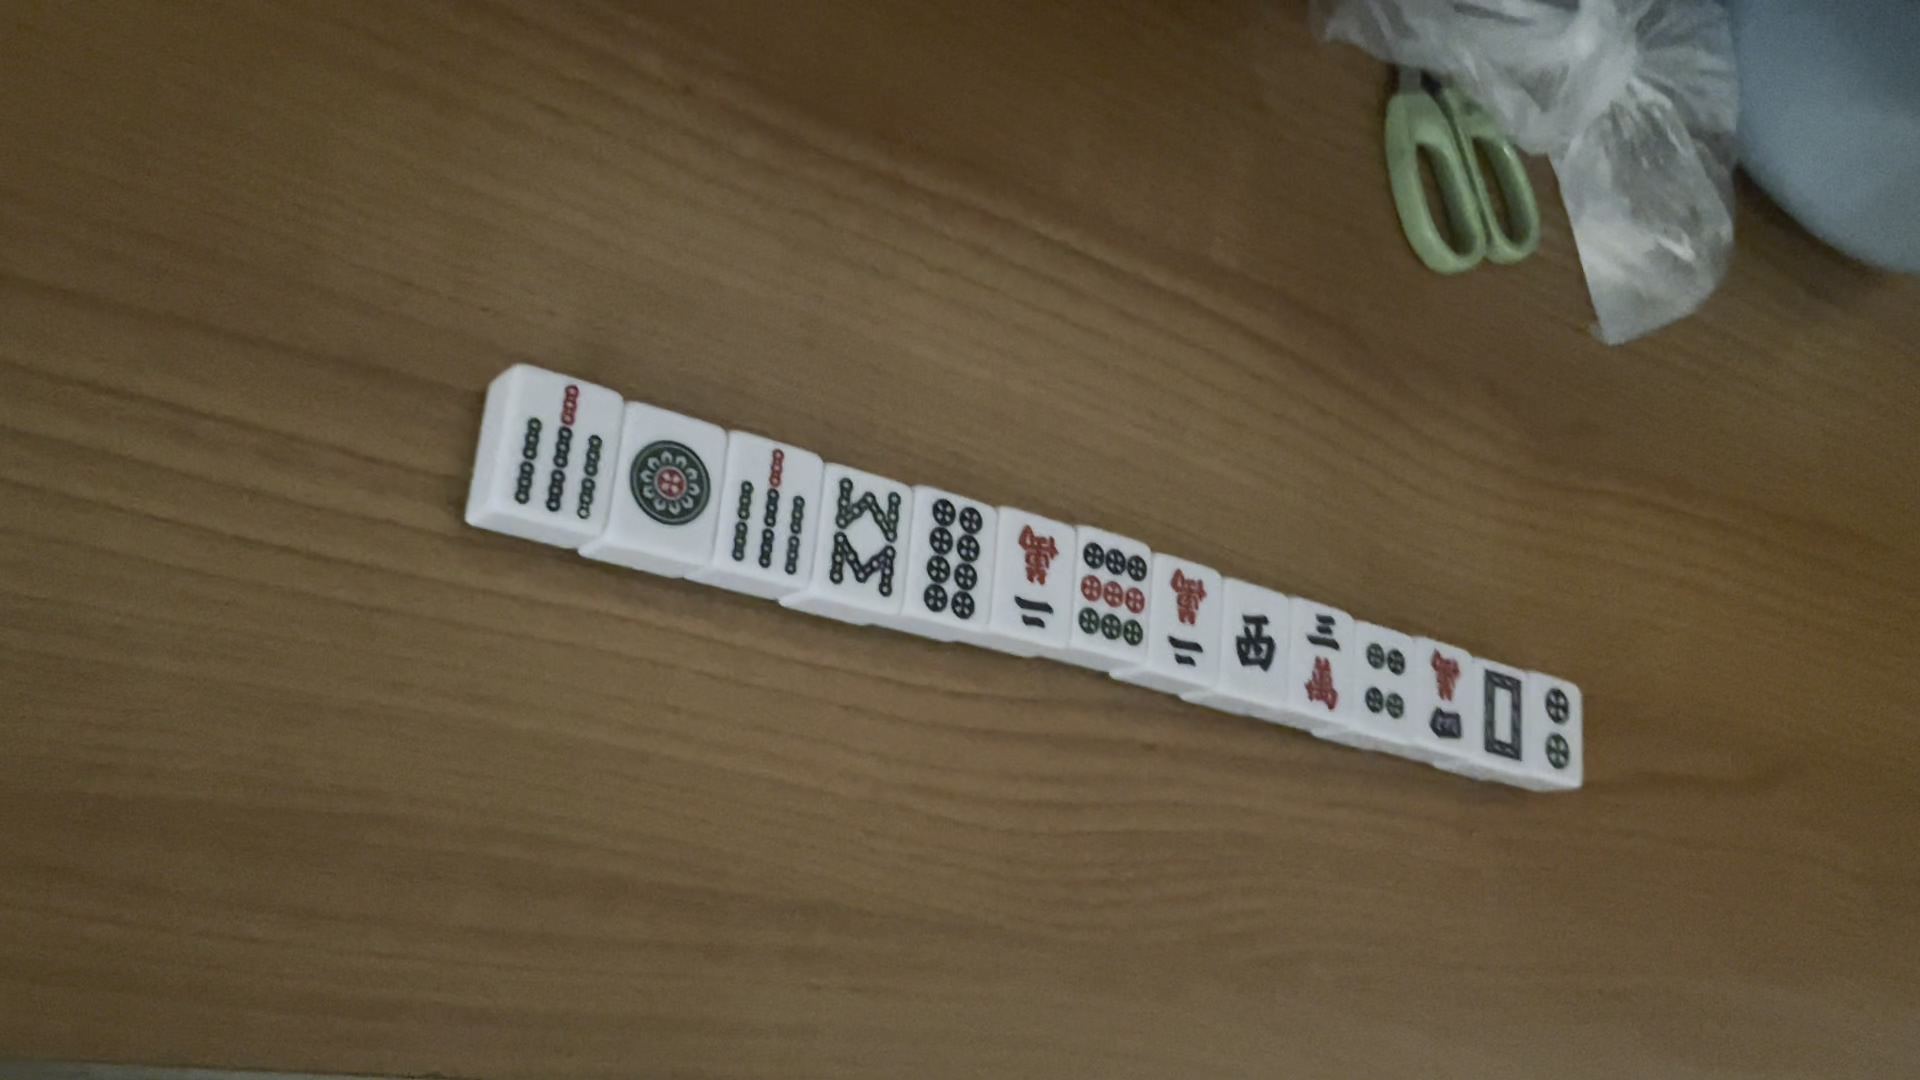b-7: (502, 376, 609, 522), (723, 444, 810, 578)
b-8: (825, 475, 906, 596)
c-2: (1000, 518, 1067, 637), (1160, 566, 1213, 675)
c-3: (1300, 609, 1342, 717)
c-4: (1423, 647, 1466, 746)
d-1: (622, 427, 716, 527)
d-2: (1535, 680, 1573, 777)
d-4: (1352, 638, 1412, 727)
d-8: (916, 493, 982, 632)
d-9: (1076, 538, 1151, 653)
hornors-west: (1232, 604, 1283, 673)
hornors-white: (1478, 665, 1526, 775)
